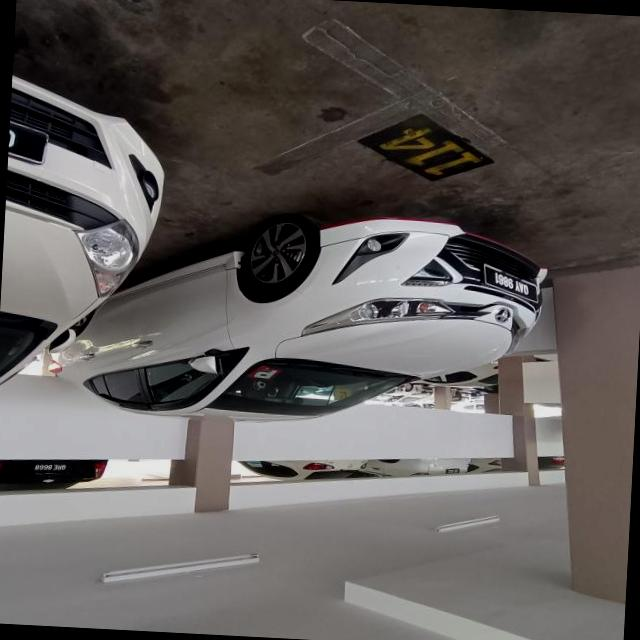ToyotaVios: (43, 198, 550, 440)
